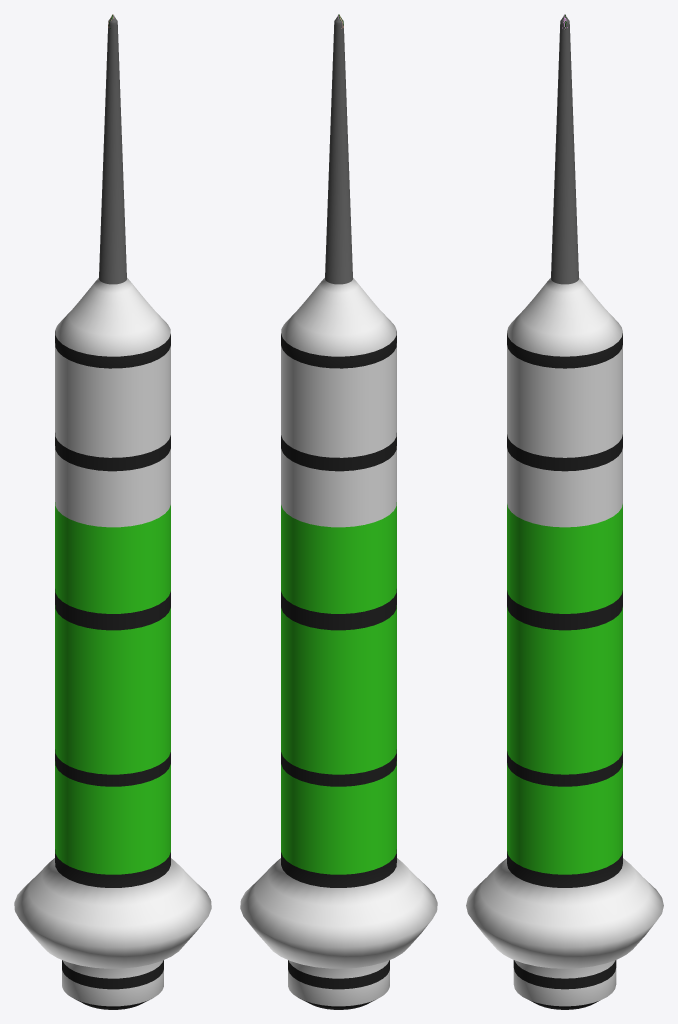
The model's file is vacuna posta.fbx.
3 views of the same model, side by side, from view 1: azimuth 30°, elevation 25°; view 2: azimuth 150°, elevation 25°; view 3: azimuth 270°, elevation 25° (orthographic).
Parts seen in each view (by area): view 1: vacuna; view 2: vacuna; view 3: vacuna.
Part boxes in pixels (left/top/right/bottom): vacuna: left=14, top=14, right=211, bottom=1009; vacuna: left=240, top=14, right=437, bottom=1009; vacuna: left=466, top=14, right=663, bottom=1009.
Bounding box in the file's own units: 341 × 1865 × 341.
1 material, 1 textured.
